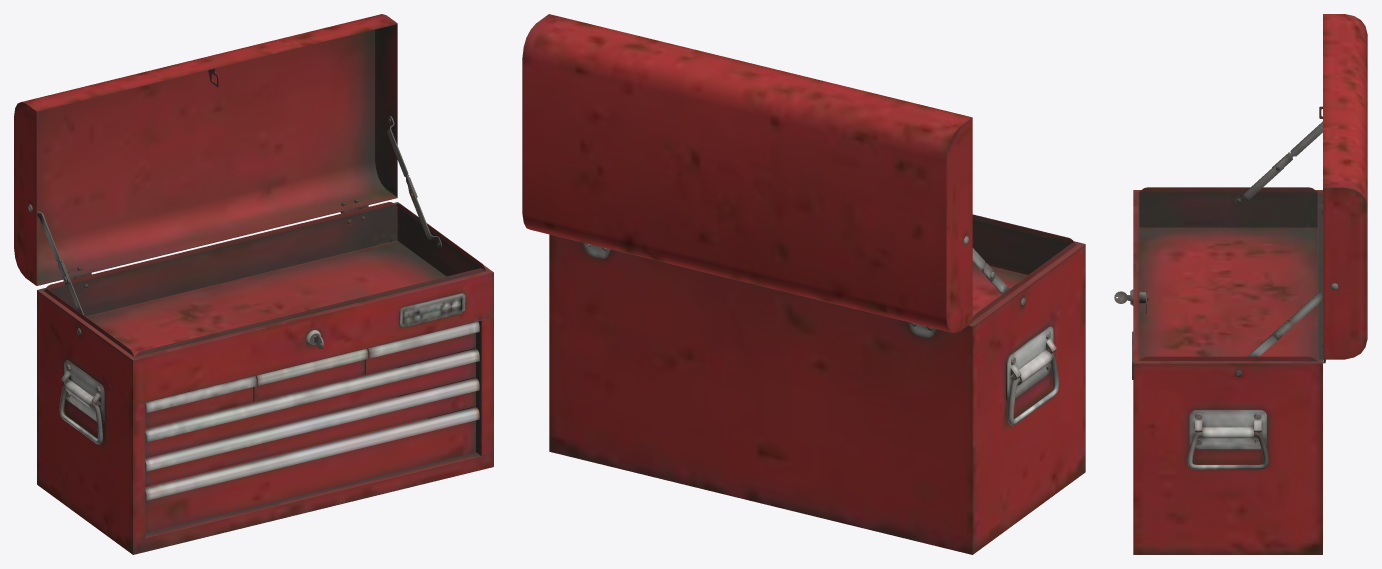
The model's file is metal_tool_chest.glb.
The picture shows the model from 3 angles, left to right: view 1: azimuth 30°, elevation 25°; view 2: azimuth 150°, elevation 25°; view 3: azimuth 270°, elevation 25°; orthographic projection. The views are drawn at different scales.
Parts seen in each view (by area): view 1: metal_tool_chest_chest; view 2: metal_tool_chest_chest; view 3: metal_tool_chest_chest.
Boxes of the visible parts, box(x1,y1,x2,y2) form: metal_tool_chest_chest: box(14, 14, 493, 554); metal_tool_chest_chest: box(522, 14, 1085, 554); metal_tool_chest_chest: box(1114, 14, 1367, 554).
Size of the model in its own units: 0.6854 by 0.6518 by 0.4072.
Materials: 1 (1 with a texture image).
